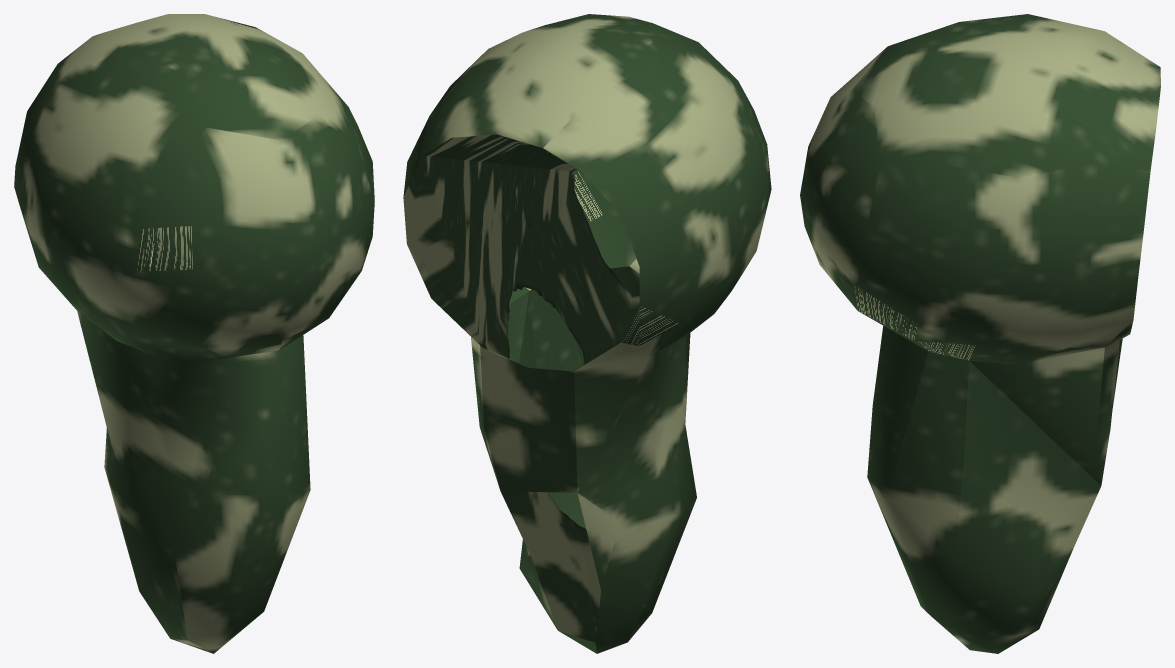
File: link_leg_0_L_0.obj
3 renders of one model, left to right at view 1: azimuth 30°, elevation 25°; view 2: azimuth 150°, elevation 25°; view 3: azimuth 270°, elevation 25°, orthographic. The views are drawn at different scales.
Parts seen in each view (by area): view 1: link_leg_0_L_0; view 2: link_leg_0_L_0; view 3: link_leg_0_L_0.
Boxes of the visible parts, left/top/right/bottom form: link_leg_0_L_0: left=14, top=14, right=374, bottom=653; link_leg_0_L_0: left=403, top=14, right=771, bottom=653; link_leg_0_L_0: left=800, top=14, right=1160, bottom=653.
Size of the model in its own units: 7.34 by 14.4 by 7.59.
